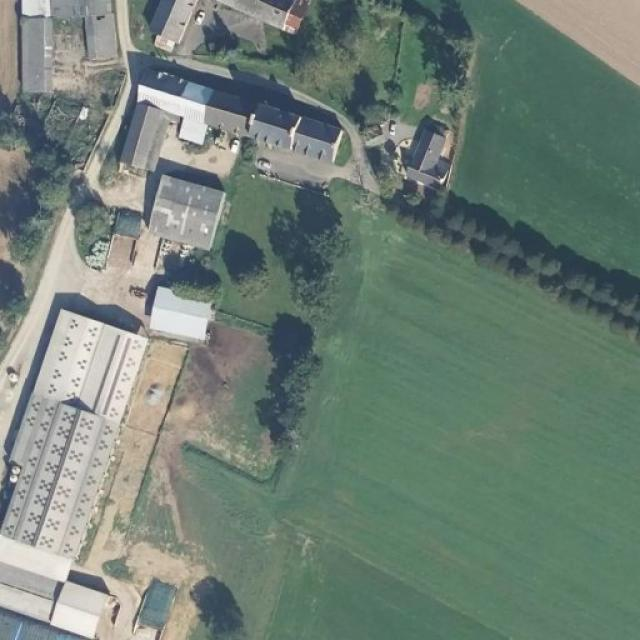ferme: (0, 0, 120, 94)
maison: (108, 55, 356, 161), (139, 0, 329, 38), (142, 164, 226, 232), (405, 122, 457, 188)
usine: (0, 311, 156, 543), (0, 539, 122, 637), (146, 282, 224, 338)
